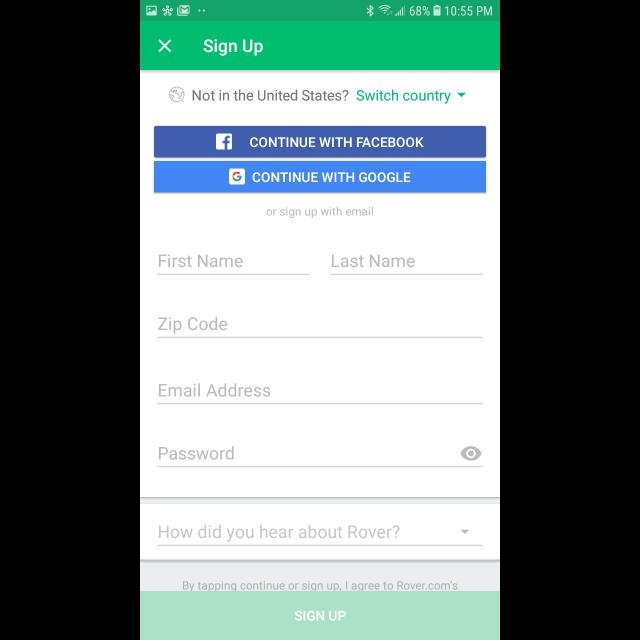icon: (460, 446, 482, 462), (216, 132, 232, 150), (158, 40, 172, 52), (458, 92, 467, 98), (460, 530, 470, 534)
image: (169, 86, 185, 102)
input: (158, 524, 482, 546), (158, 316, 482, 338), (158, 447, 482, 468), (158, 384, 482, 404), (158, 255, 310, 275), (330, 255, 482, 275)
text: (160, 524, 400, 542), (193, 90, 451, 104), (182, 581, 458, 591), (159, 383, 271, 397), (266, 206, 374, 218), (158, 316, 228, 334), (332, 255, 416, 268), (160, 447, 234, 461), (159, 256, 243, 268), (204, 40, 264, 56)
textbutton: (140, 591, 499, 640), (154, 126, 486, 158), (154, 161, 486, 193)
uppertaskbar: (140, 1, 500, 22)
